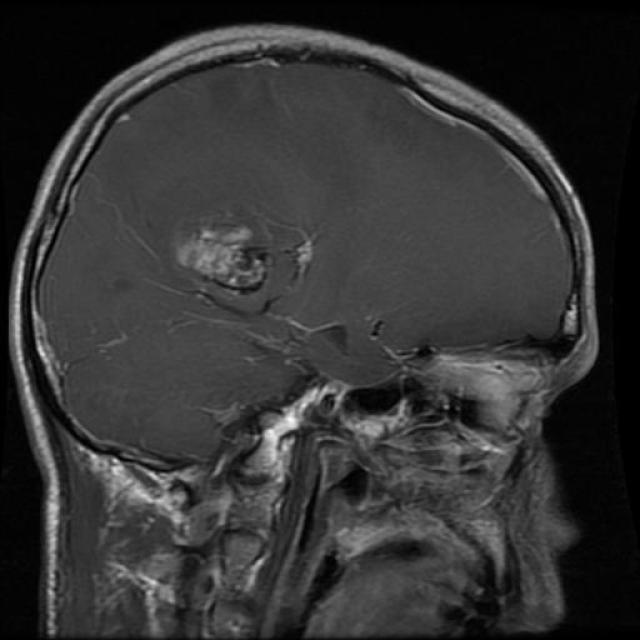glioma: (175, 206, 272, 286)
